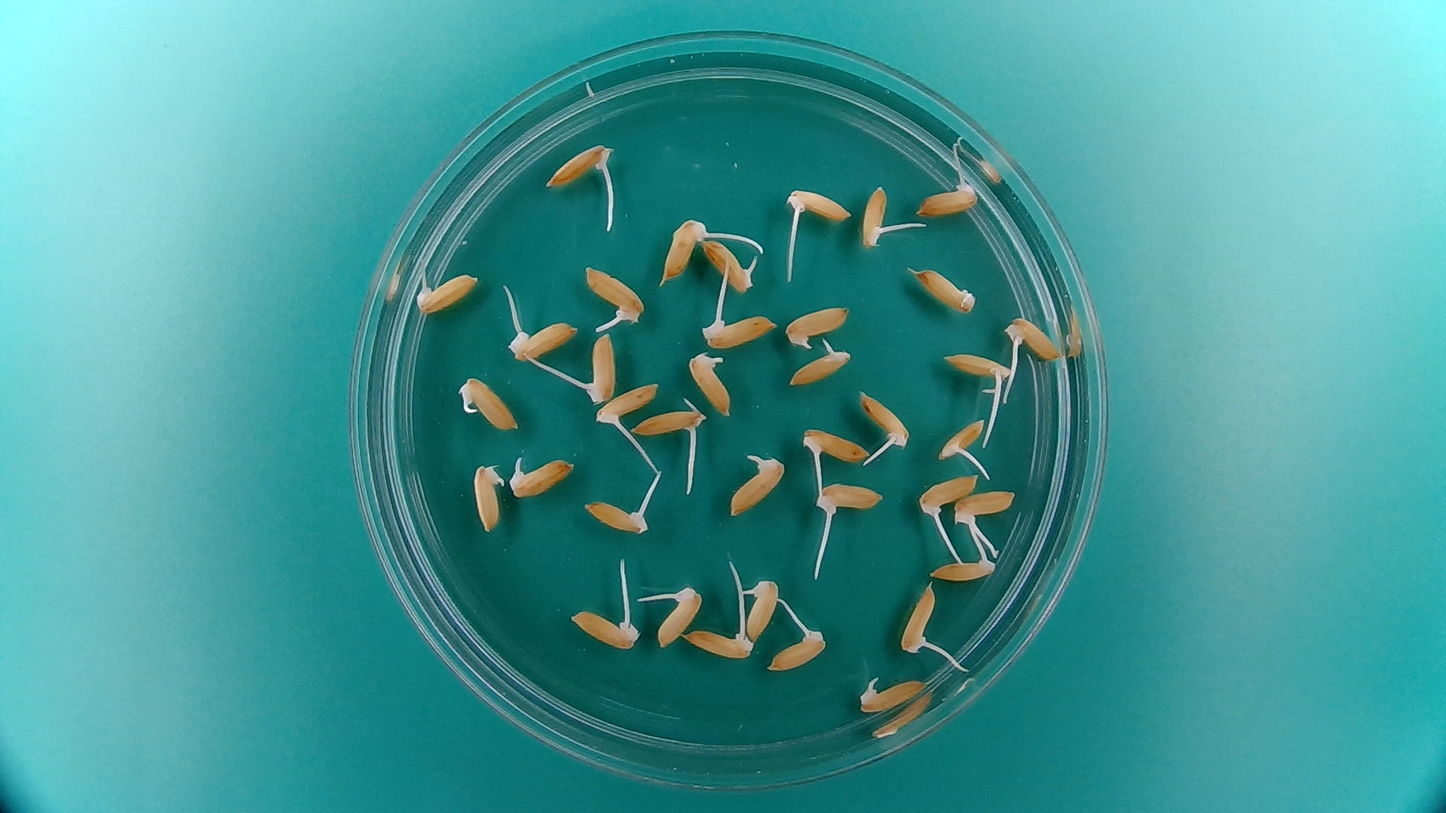no: (915, 269, 981, 315)
yes: (581, 262, 647, 329), (728, 448, 789, 519), (652, 581, 705, 650), (699, 236, 761, 294), (856, 388, 912, 452), (686, 347, 735, 419), (785, 337, 853, 387), (462, 376, 520, 434), (507, 453, 577, 500), (782, 302, 853, 348), (657, 219, 705, 285), (596, 379, 661, 427), (917, 471, 981, 519), (798, 425, 871, 467), (898, 580, 938, 656), (856, 674, 929, 715), (566, 609, 639, 650), (510, 320, 577, 364), (417, 270, 481, 316), (786, 184, 857, 225), (1002, 314, 1061, 363), (683, 623, 757, 662), (812, 480, 885, 519), (581, 330, 618, 405), (581, 497, 654, 534), (765, 628, 825, 673), (698, 315, 776, 349), (743, 575, 783, 640), (469, 461, 504, 534), (631, 406, 706, 440), (935, 416, 987, 463), (551, 147, 612, 187), (952, 489, 1017, 526), (926, 551, 998, 582), (917, 184, 982, 218), (945, 352, 1013, 382), (861, 188, 892, 248)
